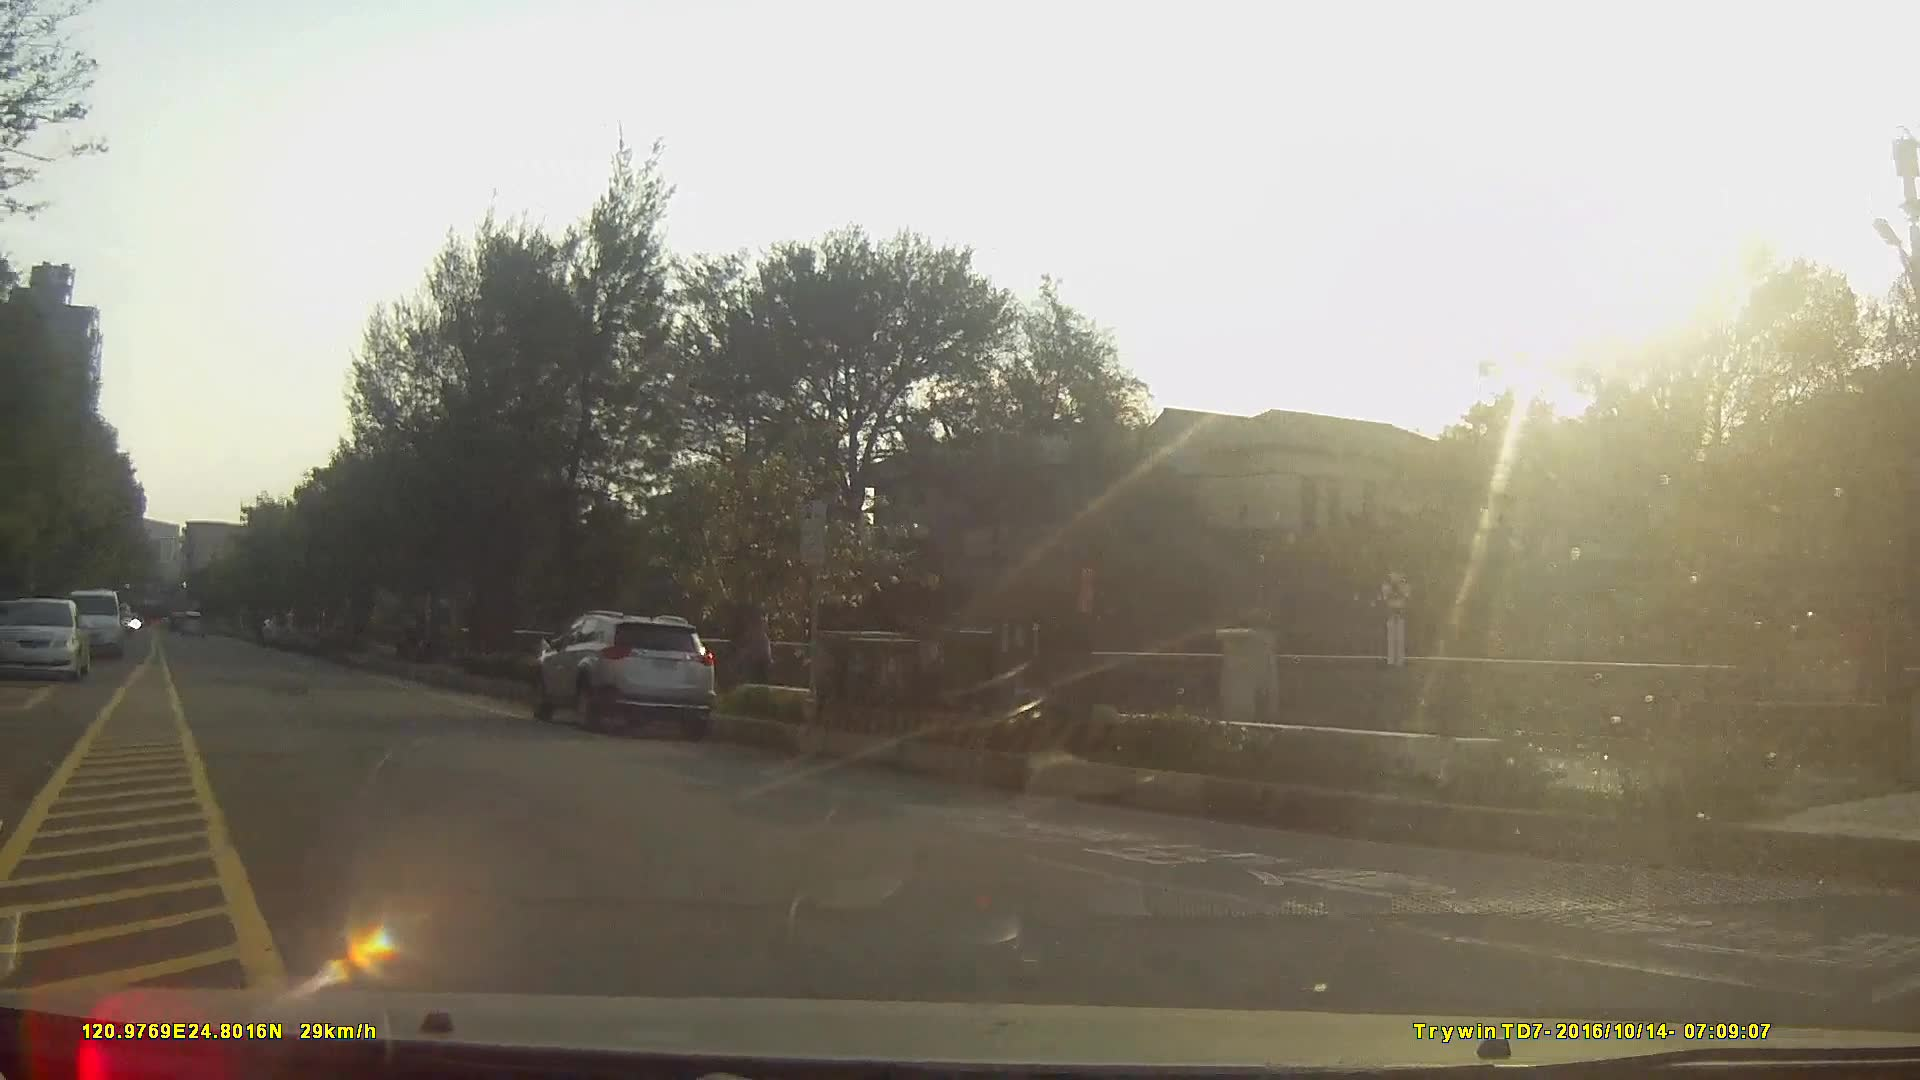vehicle: (529, 612, 719, 737), (0, 597, 83, 680), (73, 589, 124, 663), (273, 604, 328, 655)
